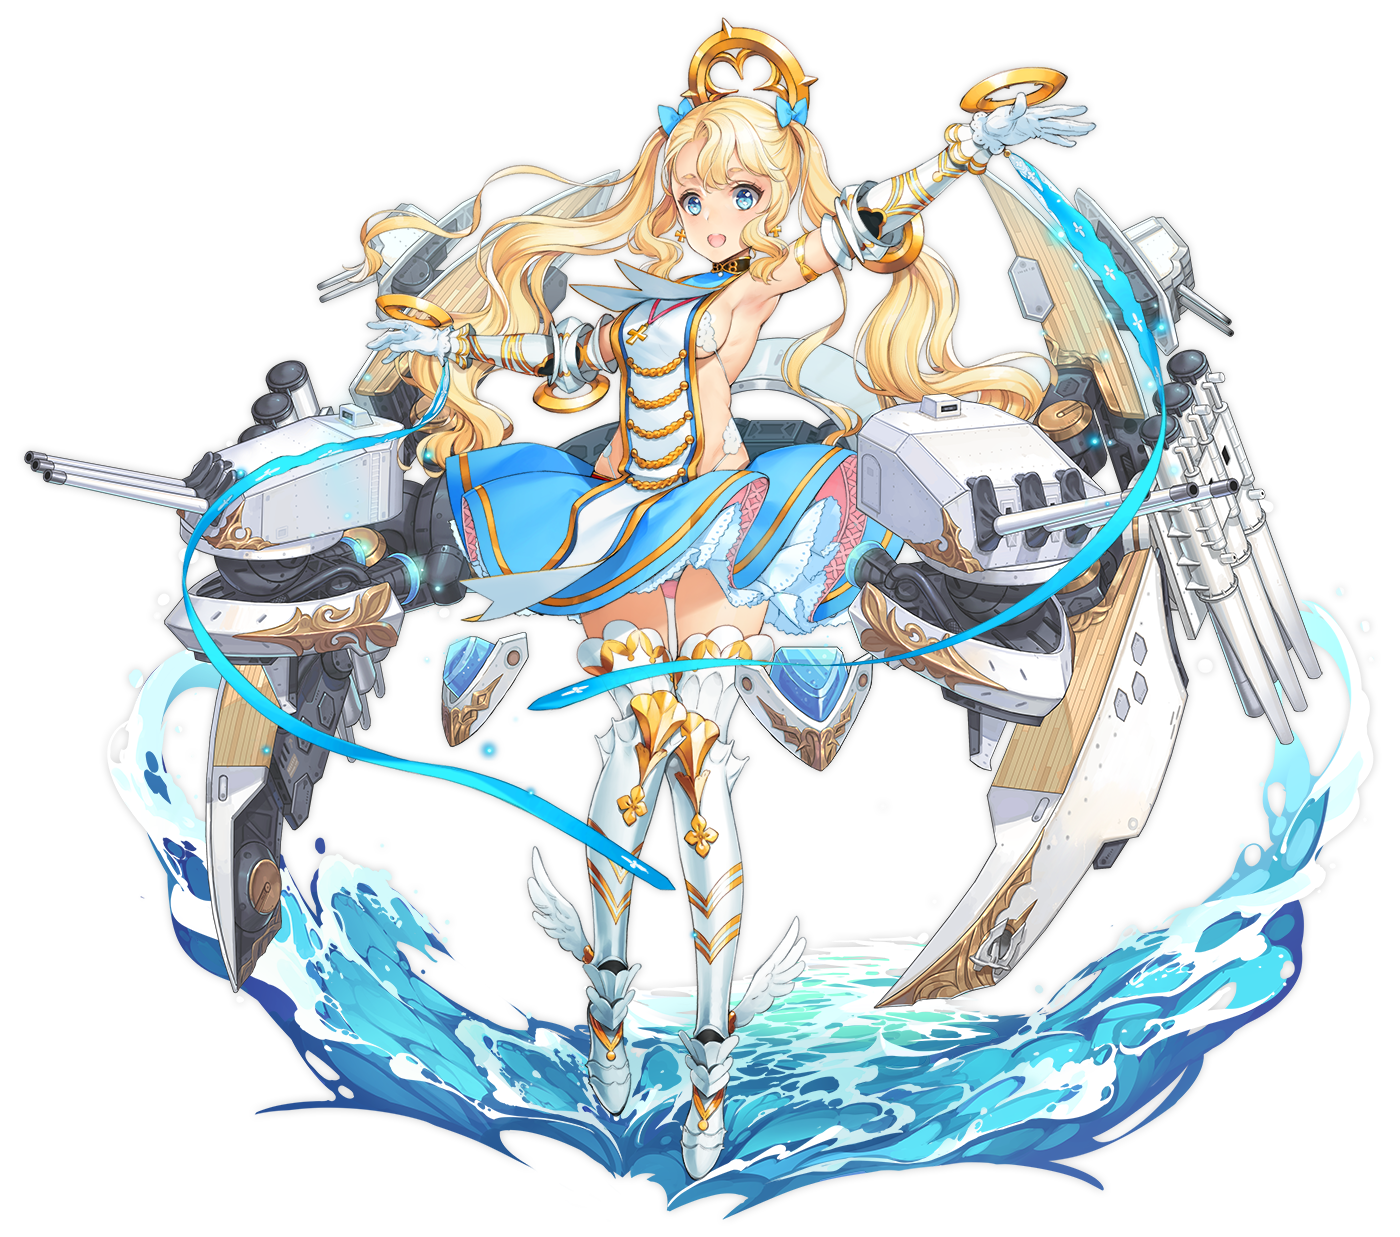person: (423, 74, 939, 871)
